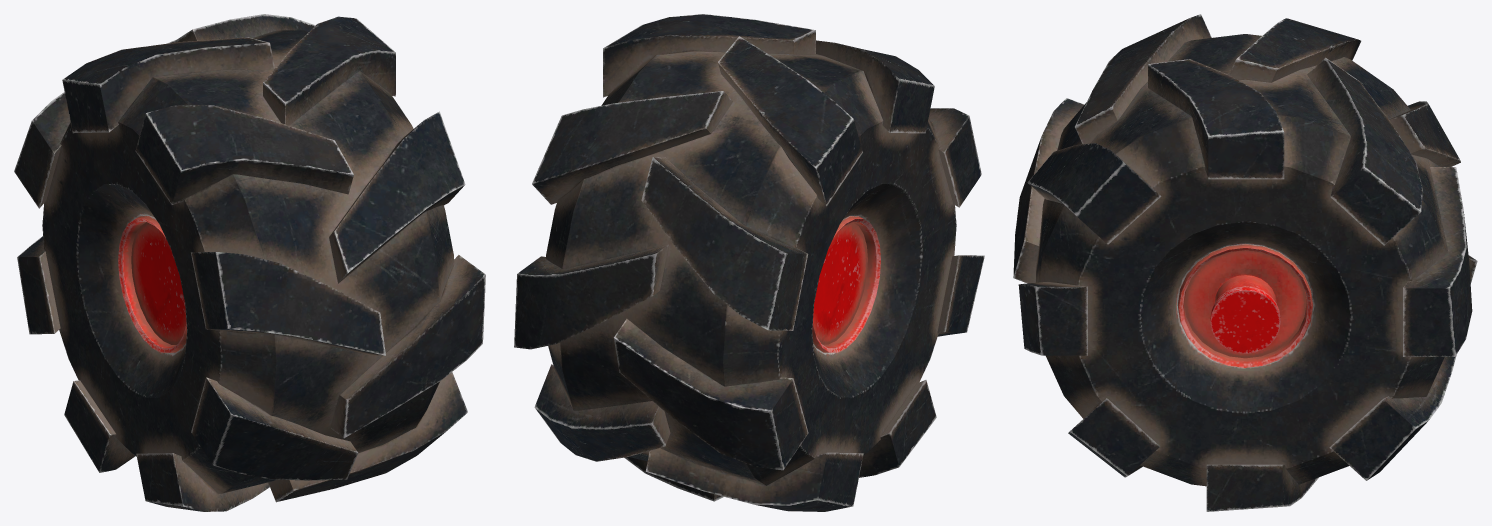
File: RedBuggy_WheelFL.fbx
3 renders of one model, left to right at view 1: azimuth 30°, elevation 25°; view 2: azimuth 150°, elevation 25°; view 3: azimuth 270°, elevation 25°, orthographic. The views are drawn at different scales.
Visible parts, largest first — view 1: RedBuggy_WheelFL; view 2: RedBuggy_WheelFL; view 3: RedBuggy_WheelFL.
Part boxes in pixels (<box>): RedBuggy_WheelFL: <box>14,14,485,511</box>; RedBuggy_WheelFL: <box>514,14,984,511</box>; RedBuggy_WheelFL: <box>1013,14,1477,511</box>.
Size of the model in its own units: 67.84 by 112 by 112.
1 material, 1 textured.
